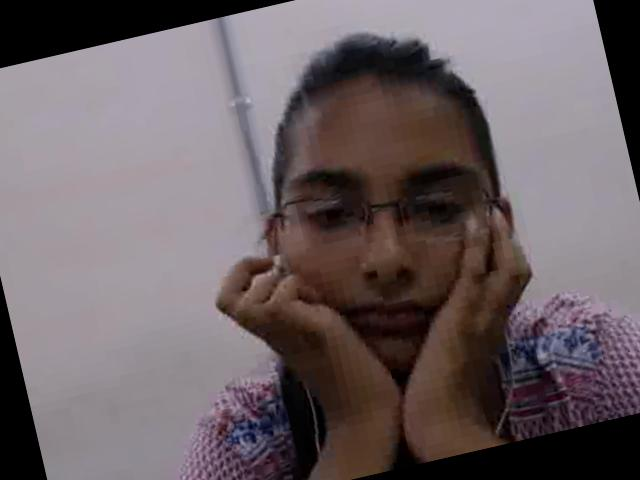bingung: (257, 78, 528, 392)
